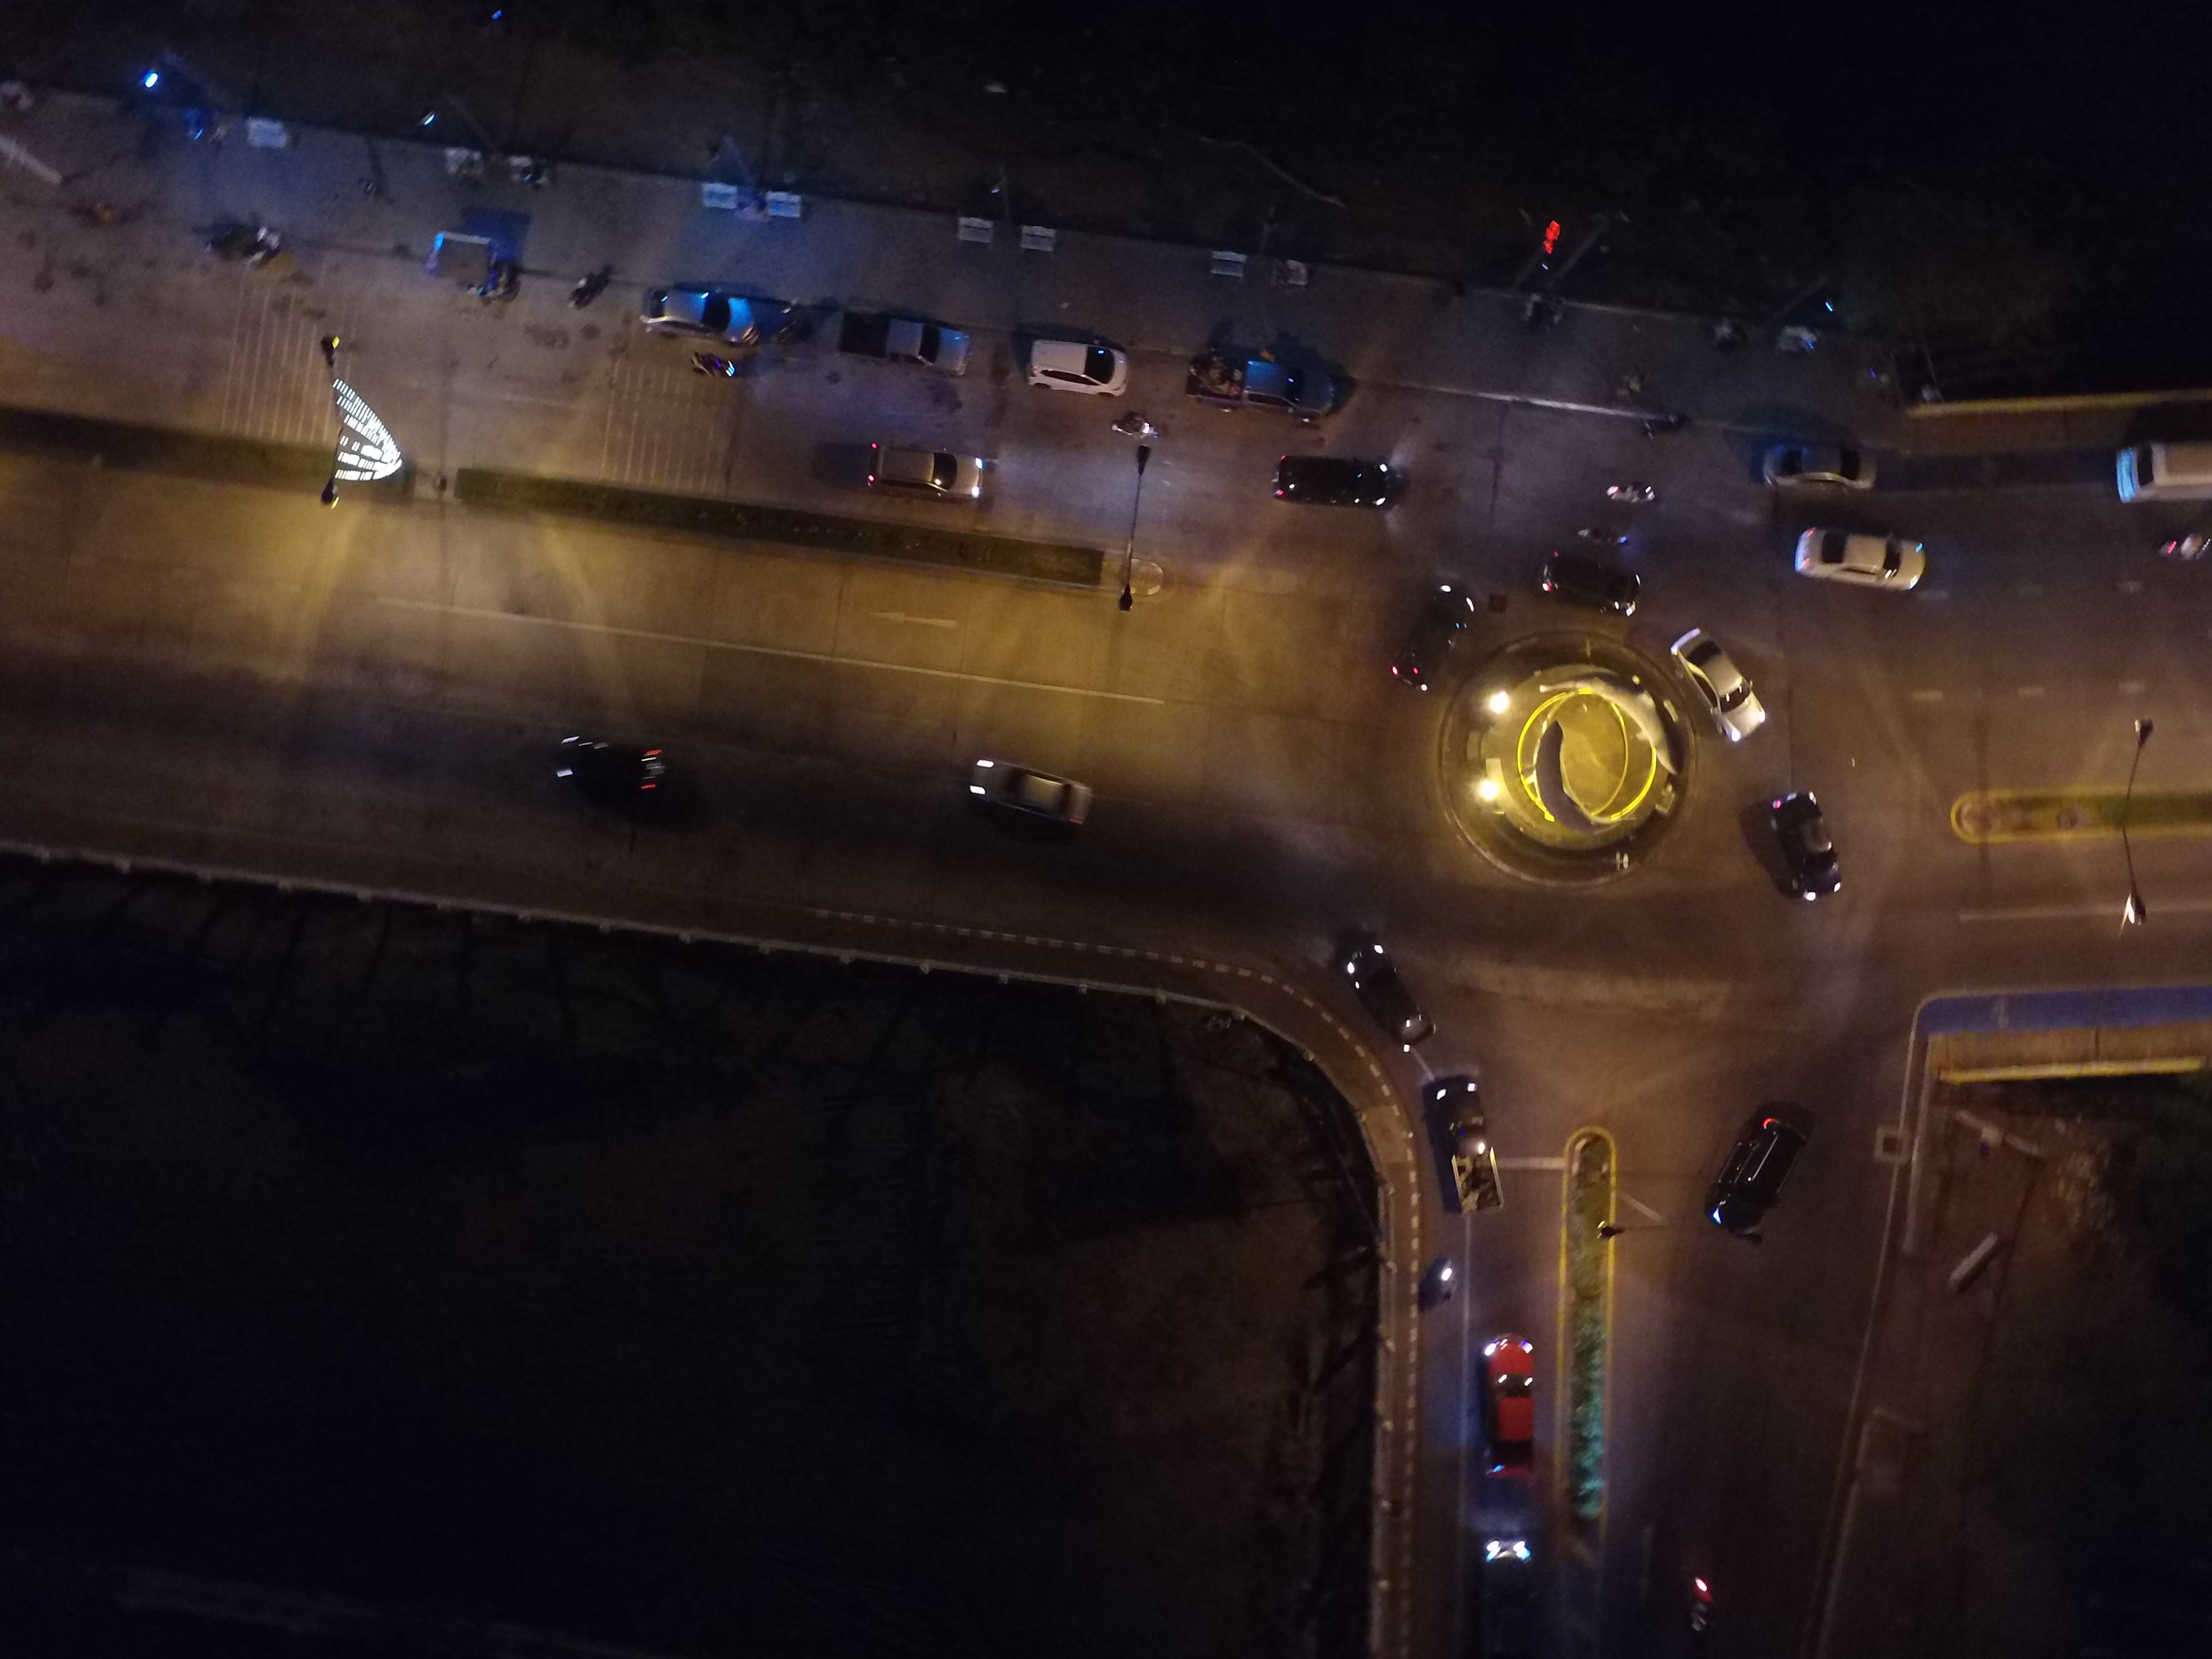car: (792, 422, 998, 532), (942, 730, 1116, 845), (516, 711, 690, 824), (1413, 1075, 1526, 1220), (1698, 1107, 1811, 1251), (1449, 1330, 1562, 1474), (1313, 922, 1433, 1058), (1656, 624, 1775, 760), (1381, 572, 1500, 708), (1251, 434, 1414, 530), (622, 267, 782, 364), (813, 305, 974, 403), (1184, 336, 1346, 432), (1745, 423, 1897, 512), (1778, 507, 1930, 596), (1001, 319, 1144, 413), (1529, 519, 1641, 640)
